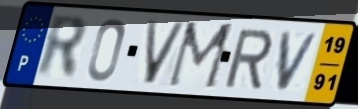0: (86, 16, 128, 84)
M: (164, 20, 238, 92)
R: (34, 12, 89, 82), (222, 28, 275, 90)
V: (143, 18, 189, 86), (275, 30, 323, 93)
